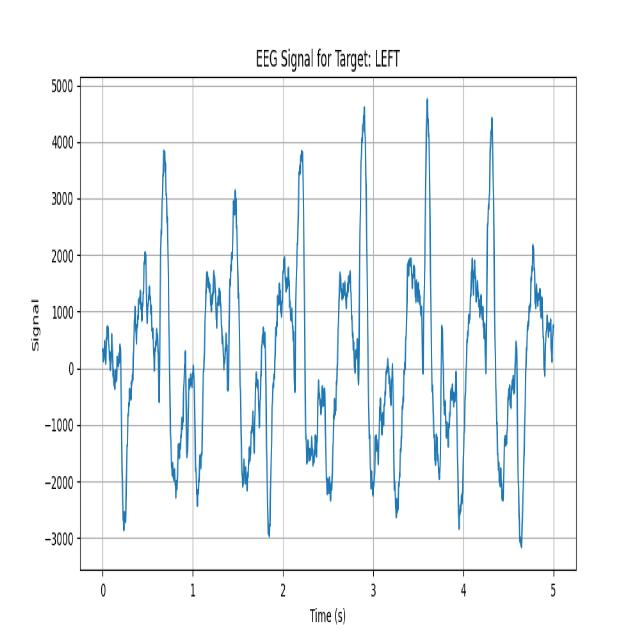LEFT: (184, 142, 258, 535), (325, 95, 390, 540), (257, 136, 327, 545), (391, 93, 453, 542), (112, 145, 184, 529), (452, 91, 508, 544)
